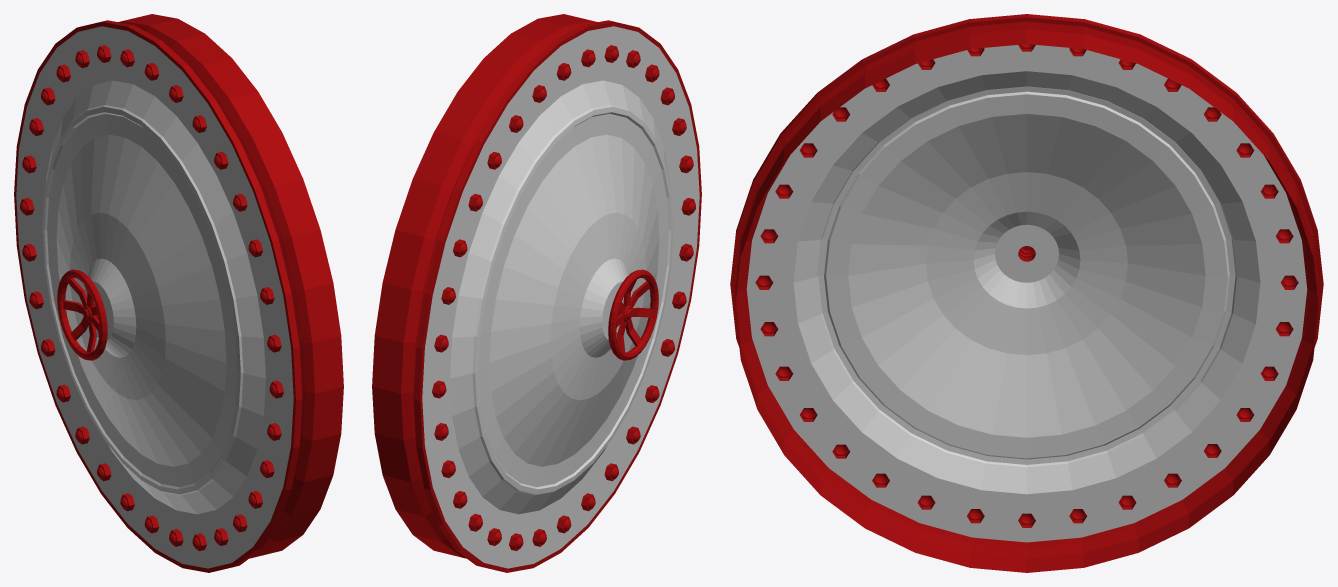
Rendered from SM_Vault_01.fbx.
3 renders of one model, left to right at view 1: azimuth 30°, elevation 25°; view 2: azimuth 150°, elevation 25°; view 3: azimuth 270°, elevation 25°, orthographic. The views are drawn at different scales.
Parts seen in each view (by area): view 1: obj1.004; view 2: obj1.004; view 3: obj1.004.
Boxes of the visible parts, box(x1,y1,x2,y2) form: obj1.004: box(14, 14, 343, 572); obj1.004: box(372, 14, 701, 572); obj1.004: box(730, 14, 1323, 572).
Bounding box in the file's own units: 70.02 × 270 × 270.
